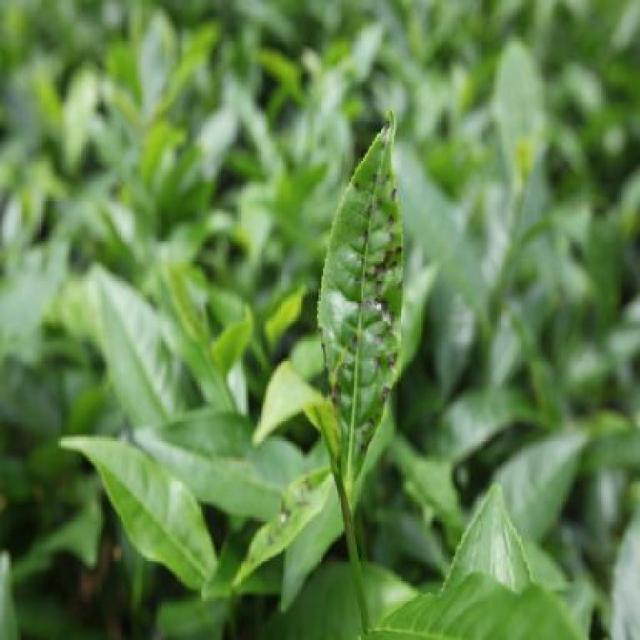Tea Mosquito bug infested leaf: (312, 99, 418, 486)
